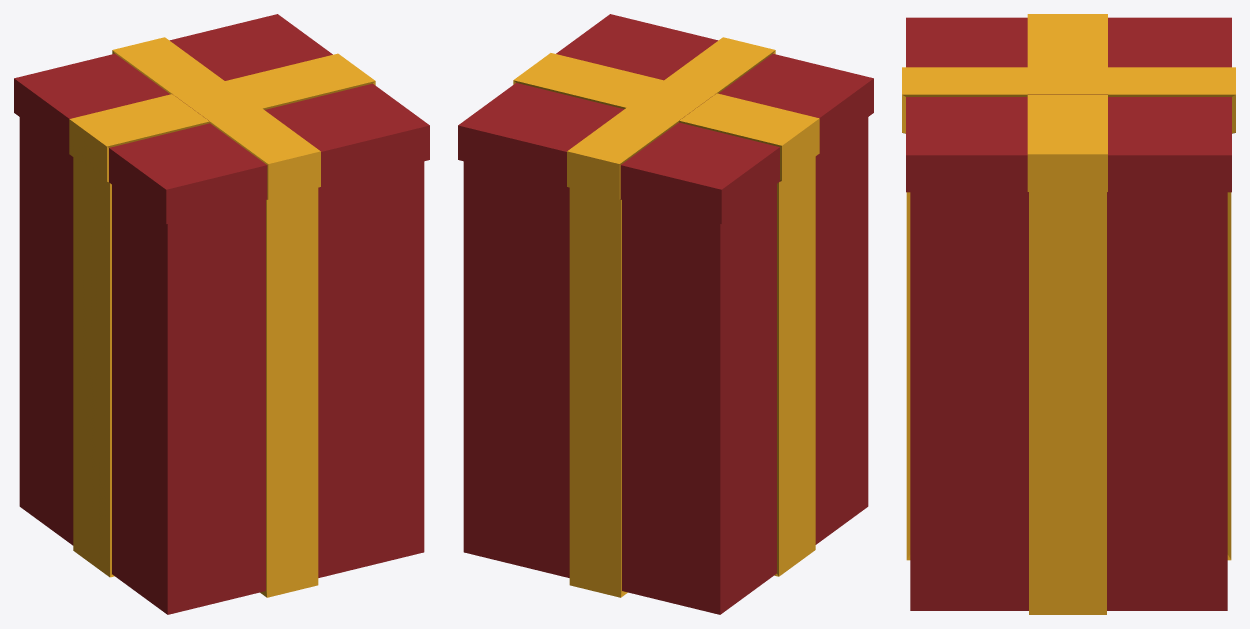
File: gift1.gltf
The picture shows the model from 3 angles, left to right: view 1: azimuth 30°, elevation 25°; view 2: azimuth 150°, elevation 25°; view 3: azimuth 270°, elevation 25°; orthographic projection. The views are drawn at different scales.
Visible parts, largest first — view 1: Cube.032, Cube.033; view 2: Cube.032, Cube.033; view 3: Cube.032, Cube.033.
Part boxes in pixels (box(x1,y1,x2,y2)): Cube.032: box(14, 14, 429, 614); Cube.033: box(69, 37, 375, 597); Cube.032: box(458, 14, 873, 614); Cube.033: box(513, 37, 819, 597); Cube.032: box(903, 17, 1234, 610); Cube.033: box(902, 14, 1235, 614).
Size of the model in its own units: 0.3973 by 0.6186 by 0.3993.
